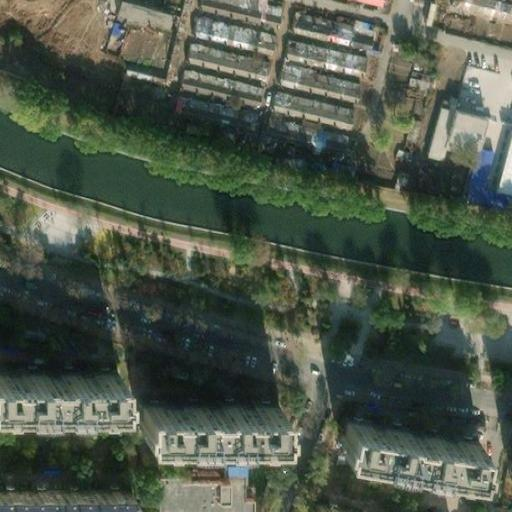building: (332, 413, 479, 469), (150, 459, 247, 512), (127, 396, 278, 423), (419, 102, 482, 163), (288, 2, 369, 42), (185, 9, 264, 49), (273, 58, 353, 96), (172, 60, 250, 98), (281, 31, 361, 68), (266, 84, 346, 121), (179, 35, 256, 71), (165, 86, 242, 122), (260, 113, 338, 145), (94, 58, 159, 95), (461, 144, 502, 202), (486, 130, 512, 188), (97, 11, 120, 54), (410, 66, 439, 91), (322, 155, 346, 171)
